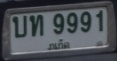txt18: (28, 14, 45, 38)
txt21: (11, 15, 28, 39)
